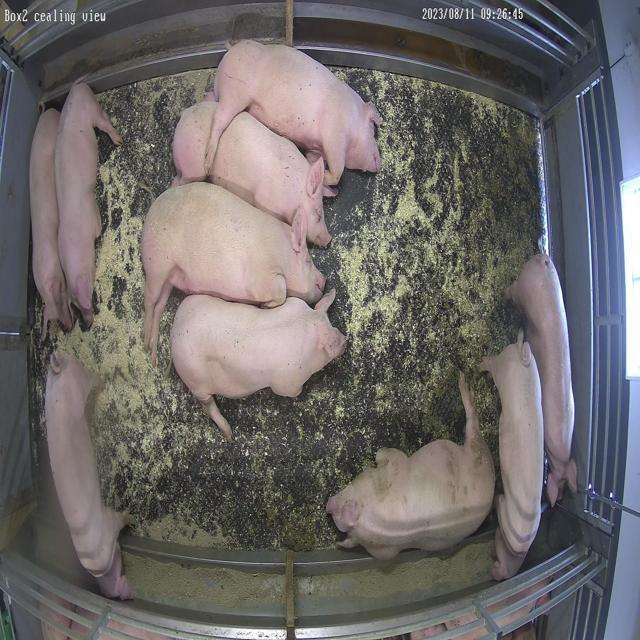Dirt: (426, 106, 542, 290)
Pig: (142, 182, 326, 364), (328, 376, 497, 560), (171, 289, 347, 440), (207, 39, 383, 188), (173, 99, 332, 248), (45, 353, 129, 600), (508, 255, 579, 506), (54, 79, 122, 326), (481, 335, 545, 580), (404, 326, 516, 456), (29, 108, 73, 334)
